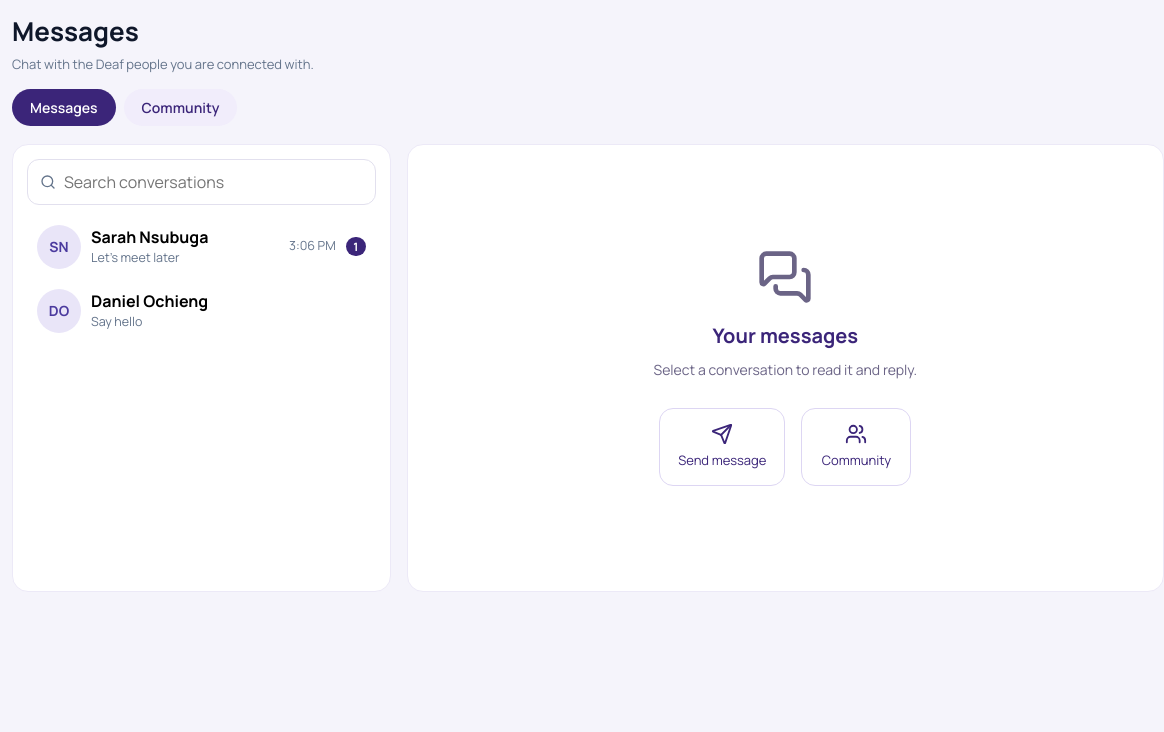
Test: MessagesPage › sends a message, shows it, and clears the box
This screenshot has width=1164, height=732.
Click the button "SN Sarah Nsubuga Let’s meet later 3:06 PM 1" at (201, 246), box x1=27 y1=214 x2=376 y2=278
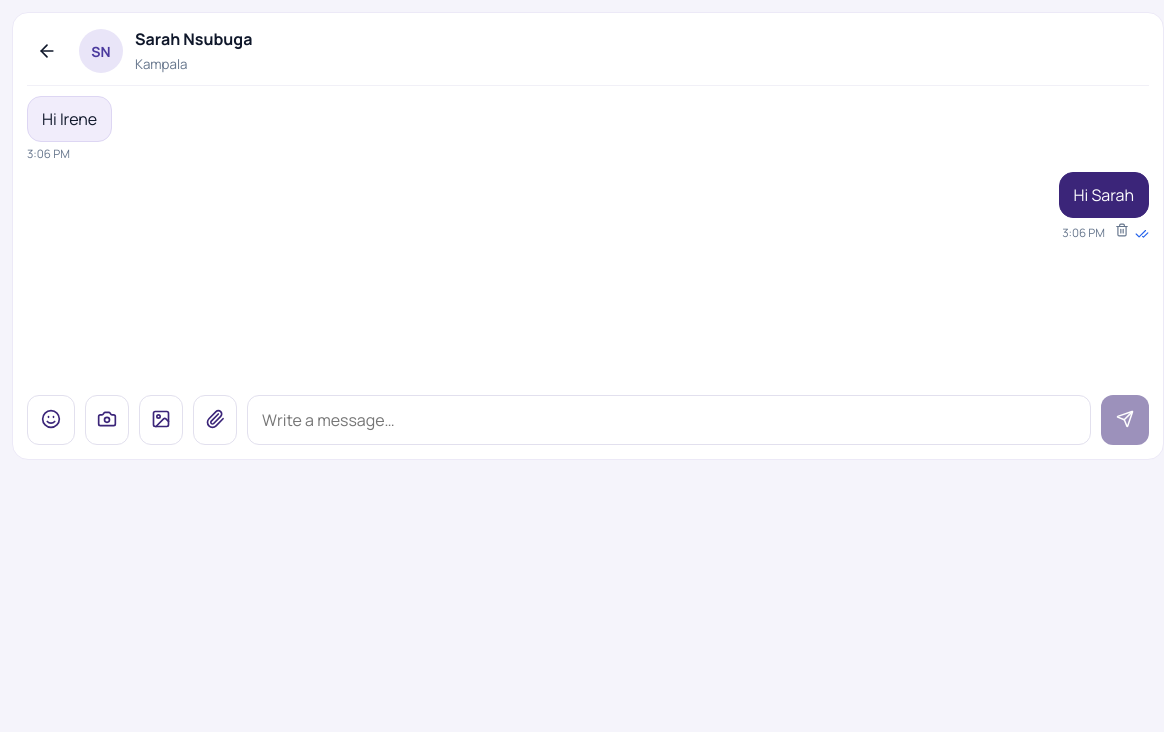
Expected: the text "Hi Irene" is shown, x1=27 y1=96 x2=112 y2=142
Type "  See you at 4 " into the field labelled "Write a message" at (669, 420), box x1=247 y1=395 x2=1091 y2=445
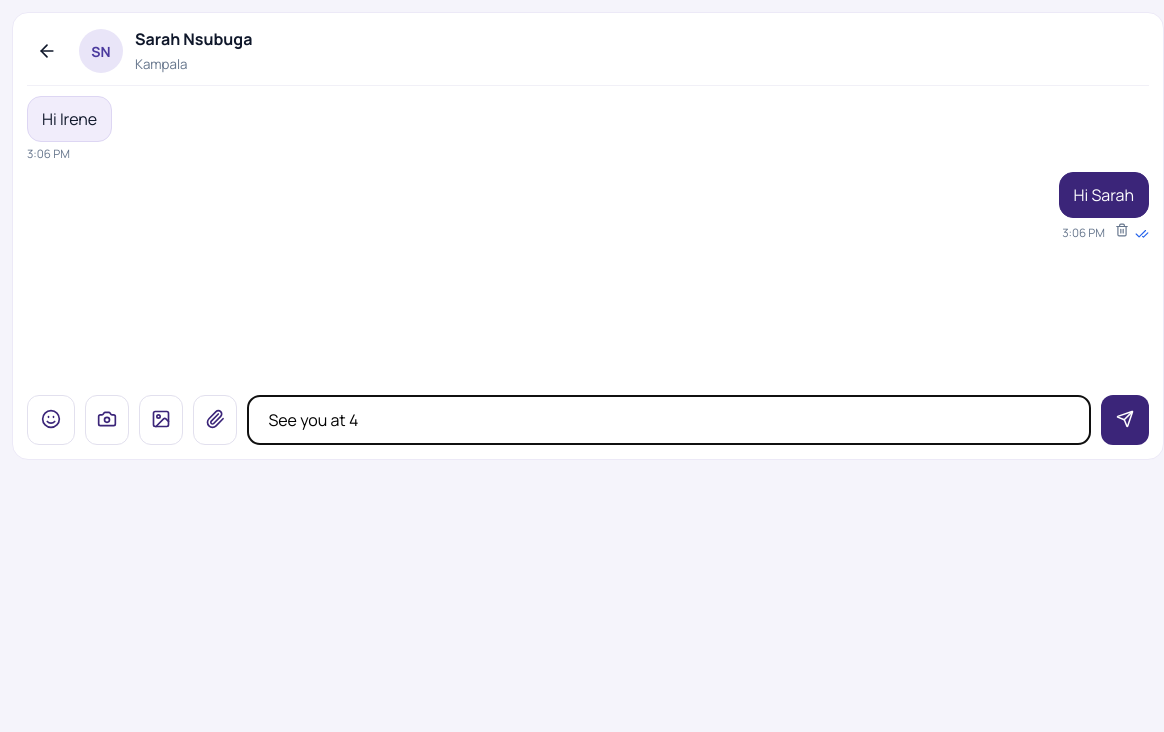
Click the button named "Send" at (1125, 420), box x1=1101 y1=395 x2=1149 y2=445
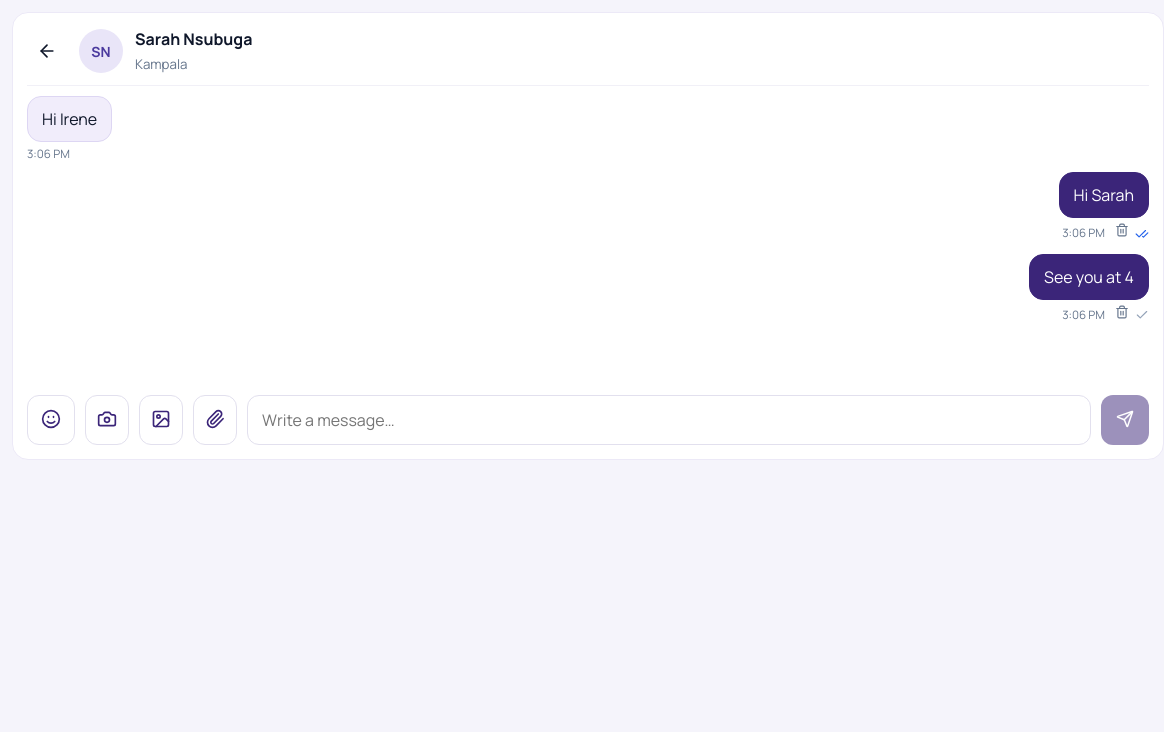
Expected: the text "See you at 4" is shown, x1=1029 y1=254 x2=1149 y2=300
Expected: the field labelled "Write a message" is empty, x1=247 y1=395 x2=1091 y2=445
